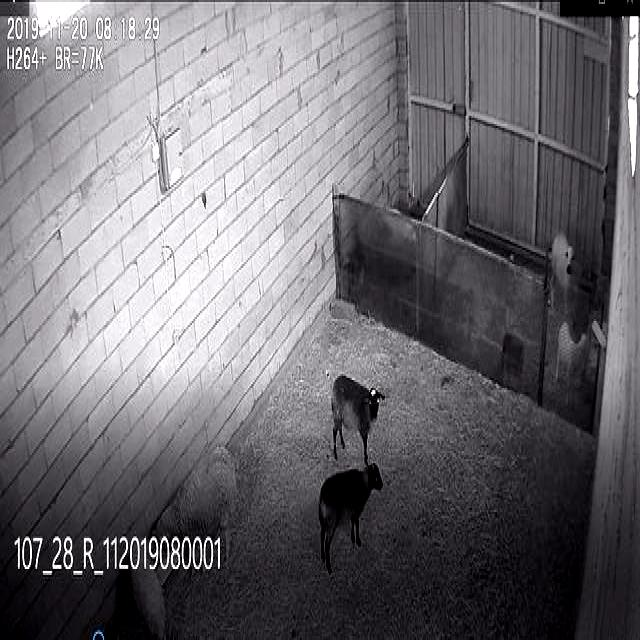sheep: (319, 459, 383, 574), (331, 369, 390, 467)
